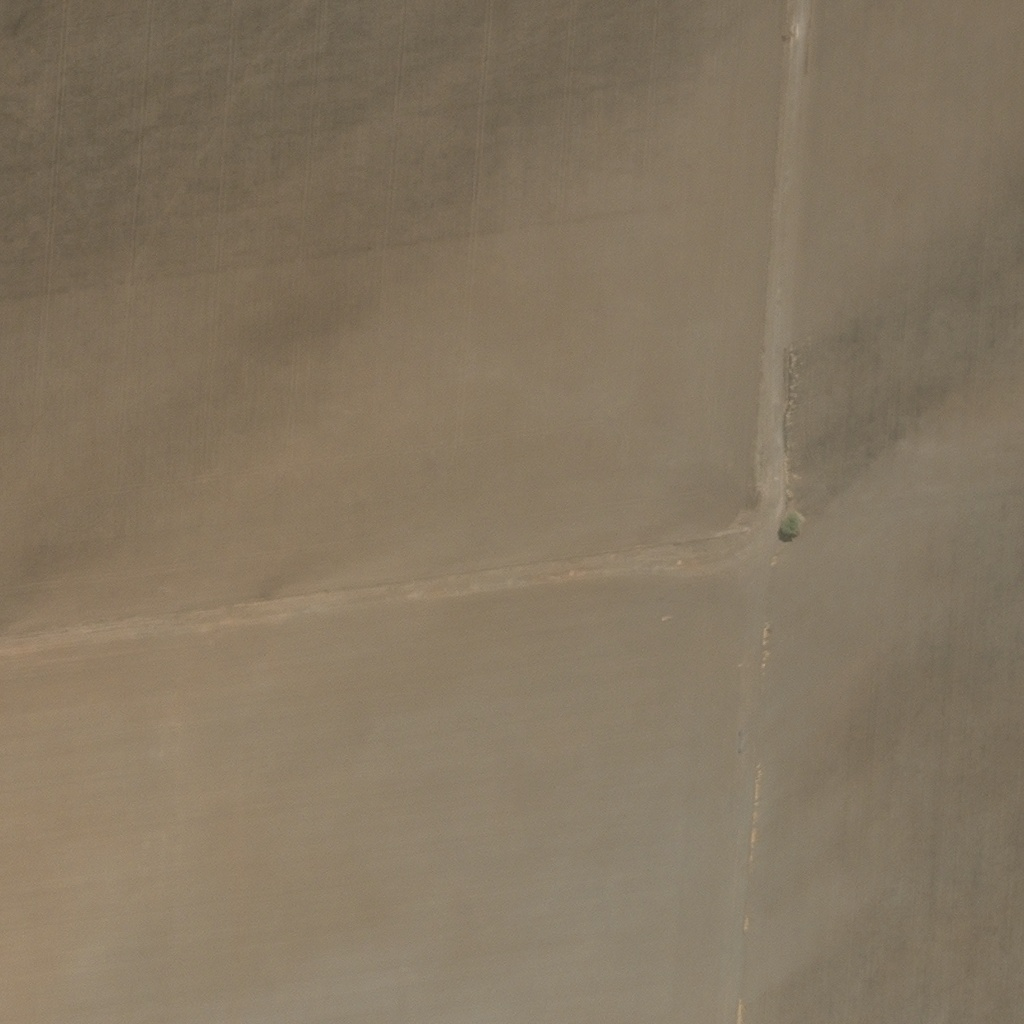4 un-classified: (743, 81, 755, 95)
